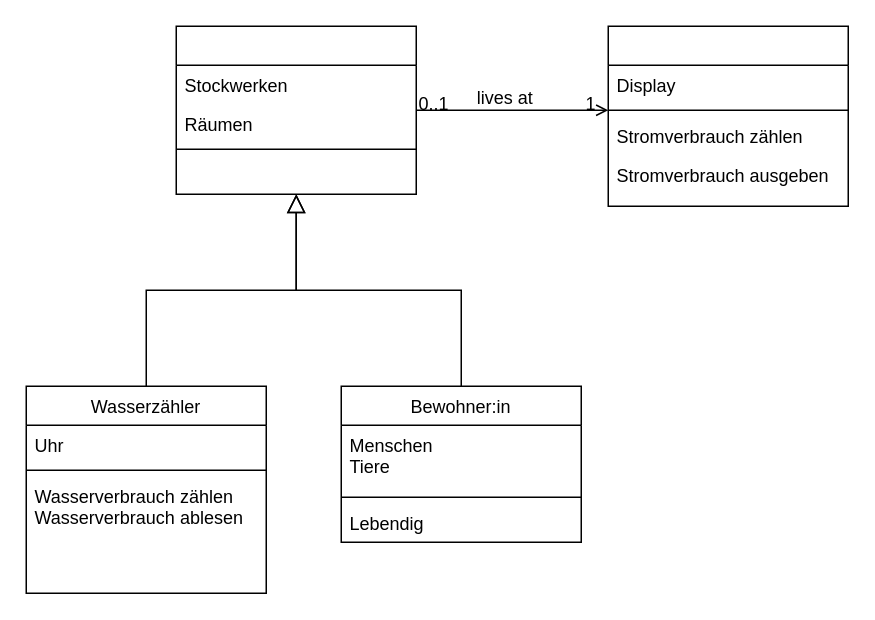
This 875x620 diagram has some shape labels left out. The box of each missing label's shape, as (x1, y1, x2, y2) in pixels:
Gebäude: (175, 25, 416, 194)
Stromzähler: (607, 25, 848, 206)
